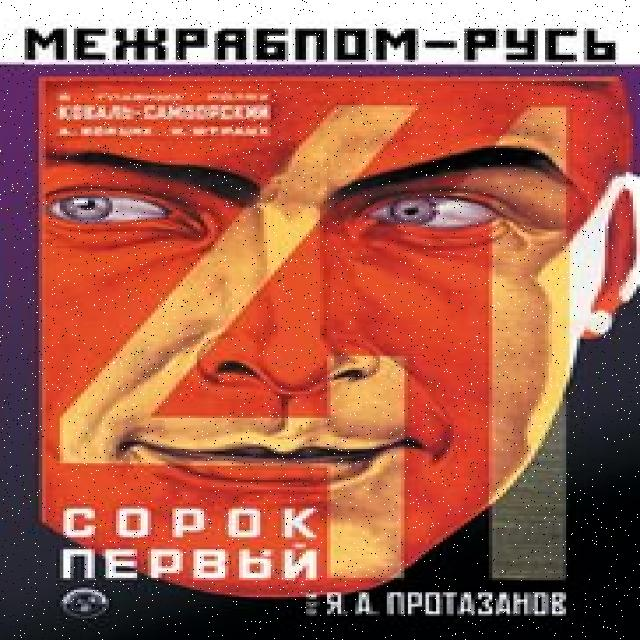movie-judul: (5, 9, 629, 66), (53, 464, 330, 588)
picture: (6, 70, 640, 632)
